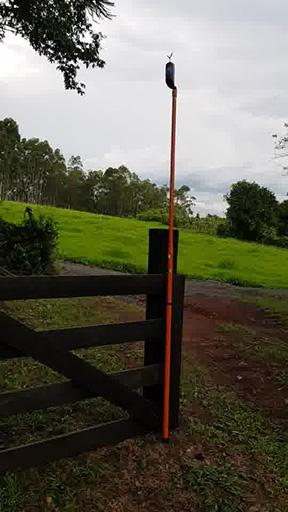Detector_Tensao_Contato: (165, 51, 176, 90)
Vara_Manobra: (162, 89, 178, 440)
